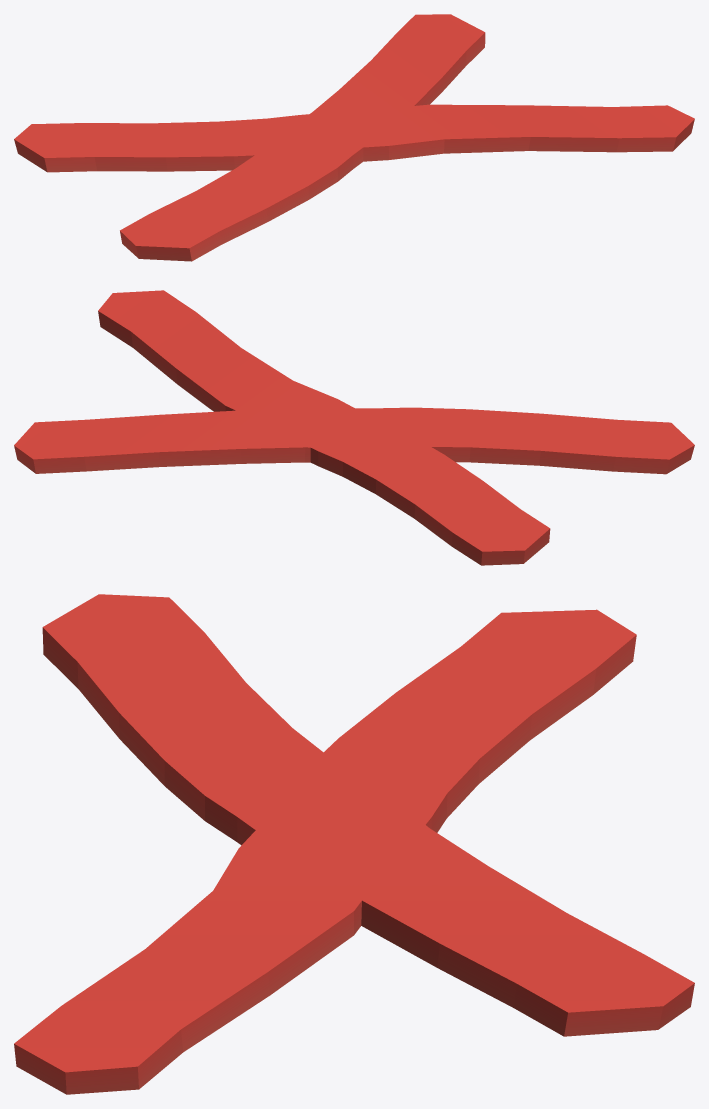
File: cross.fbx
3 views of the same model, one above another, from view 1: azimuth 30°, elevation 25°; view 2: azimuth 150°, elevation 25°; view 3: azimuth 270°, elevation 25° (orthographic). The views are drawn at different scales.
Visible parts, largest first — view 1: Cross; view 2: Cross; view 3: Cross.
Part boxes in pixels (x1=…): Cross: x1=14, y1=14, x2=694, y2=261; Cross: x1=14, y1=290, x2=694, y2=565; Cross: x1=14, y1=594, x2=694, y2=1094.
Bounding box in the file's own units: 660 × 16.18 × 397.
